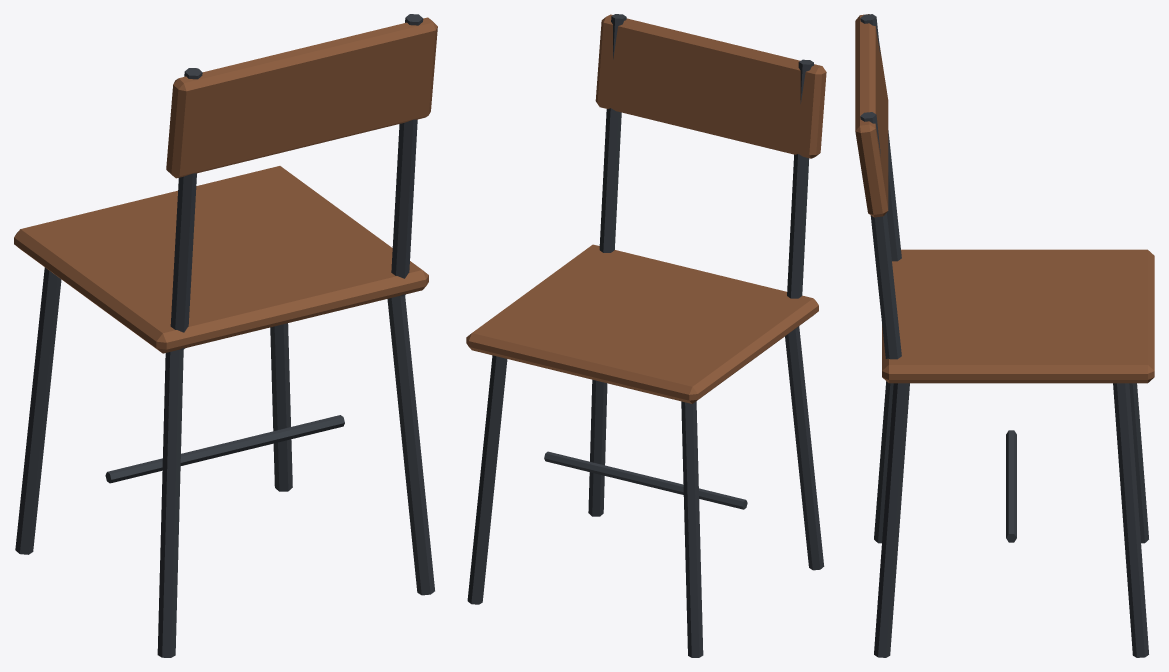
Rendered from cafe_chair.glb.
The picture shows the model from 3 angles, left to right: view 1: azimuth 30°, elevation 25°; view 2: azimuth 150°, elevation 25°; view 3: azimuth 270°, elevation 25°; orthographic projection. The views are drawn at different scales.
Visible parts, largest first — view 1: CafeChair; view 2: CafeChair; view 3: CafeChair.
Part boxes in pixels (x1,y1,x2,y2): CafeChair: (14,14,437,657); CafeChair: (466,14,826,657); CafeChair: (855,14,1154,657).
Size of the model in its own units: 0.4208 by 0.8623 by 0.4392.
